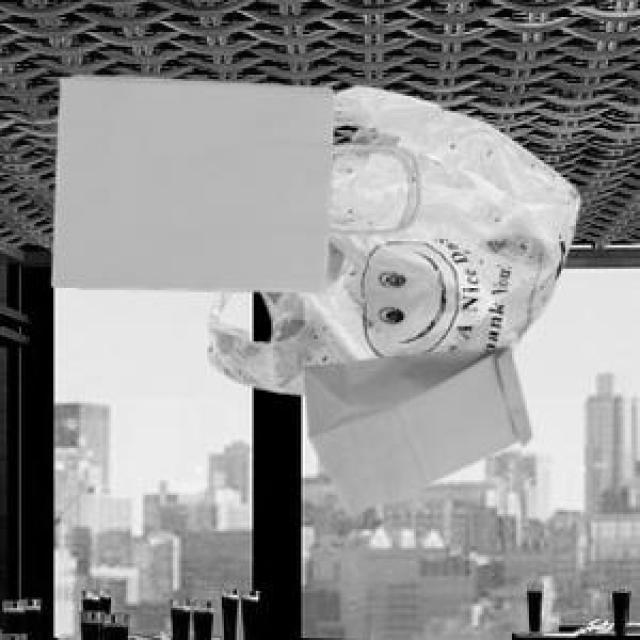paper: (47, 70, 416, 288), (301, 344, 527, 512)
